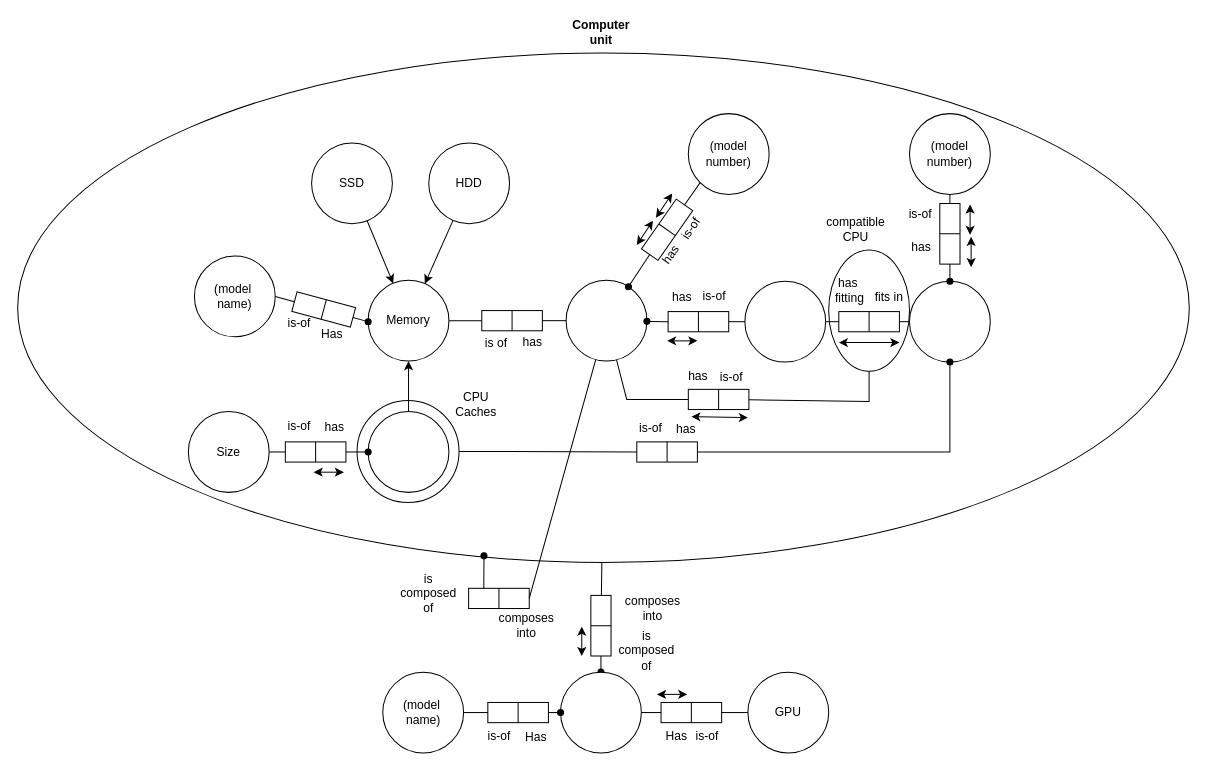
This 1207x771 diagram has some shape labels left out. Each missing label, with the centre of its shape:
CPU: point 949,321
Desktop: point 600,712
L Cache: point 408,451
Motherboard: point 606,320
Socket: point 785,321
